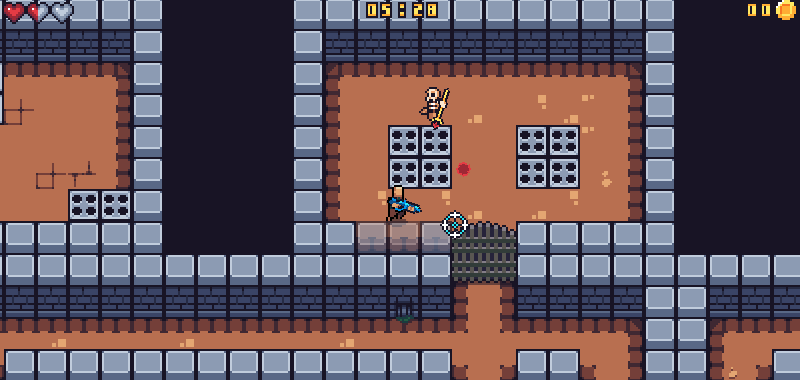enemy_skeleton: (422, 84, 449, 131)
enemy_skeleton_shoot: (454, 161, 473, 177)
trap_door: (448, 216, 520, 284)
trap_off: (516, 124, 580, 187), (389, 126, 450, 189), (68, 189, 132, 221)
